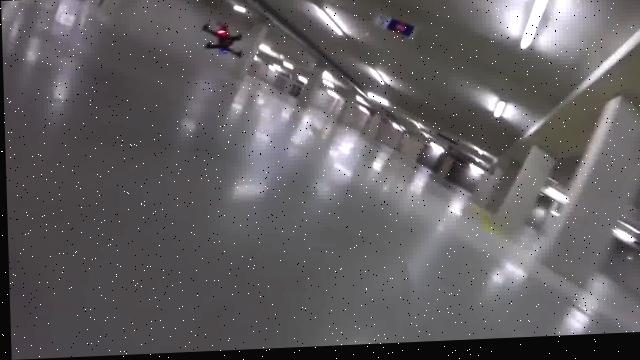drone: (180, 7, 264, 75)
